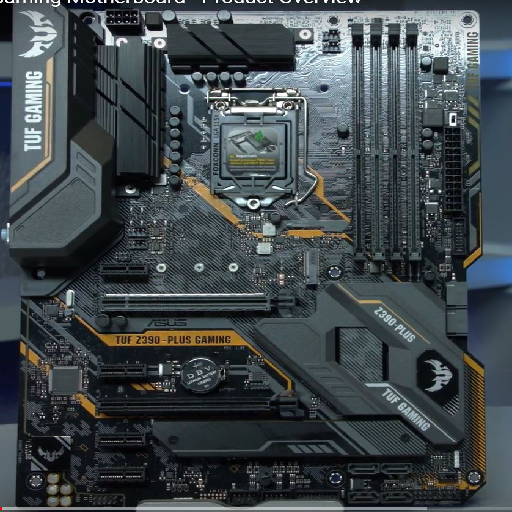CPU: (209, 107, 301, 209)
GPU: (96, 391, 302, 421), (99, 287, 298, 318)
MOTHERBOARD: (6, 6, 488, 508)
RAM: (348, 22, 424, 274)
SSD: (302, 246, 321, 287)
